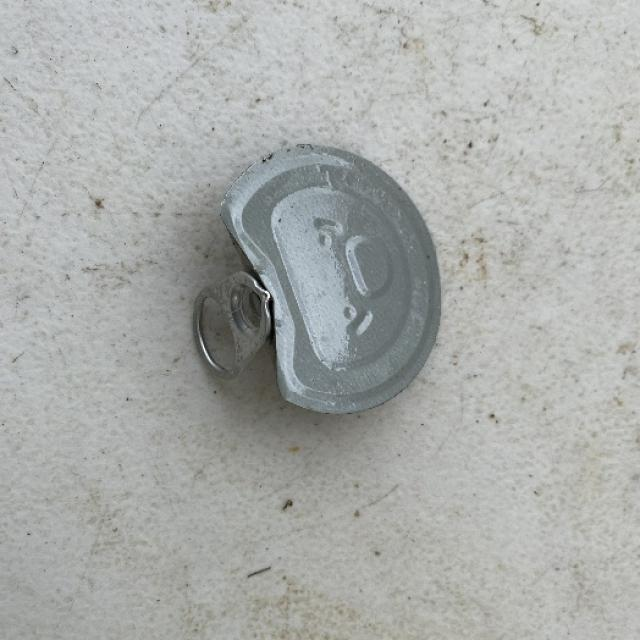metal: (192, 142, 442, 414)
